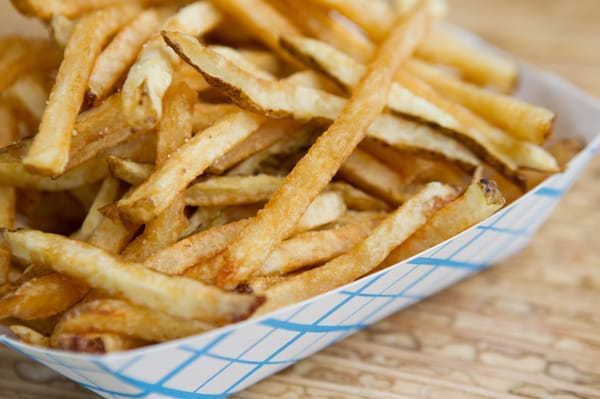soup: (2, 0, 544, 351)
